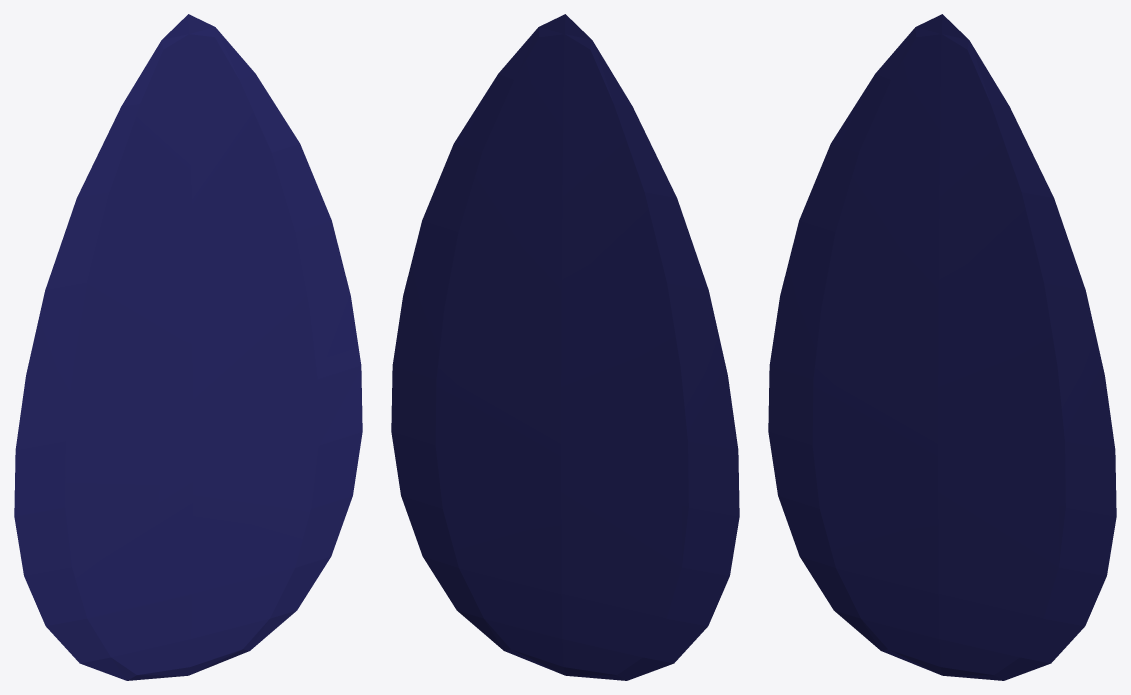
Rendered from Drip.obj.
The picture shows the model from 3 angles, left to right: view 1: azimuth 30°, elevation 25°; view 2: azimuth 150°, elevation 25°; view 3: azimuth 330°, elevation 25°; orthographic projection.
Parts seen in each view (by area): view 1: yodare; view 2: yodare; view 3: yodare.
Boxes of the visible parts, bbox=[...] form: yodare: bbox=[14, 14, 362, 680]; yodare: bbox=[391, 14, 739, 680]; yodare: bbox=[768, 14, 1116, 680].
Bounding box in the file's own units: 0.8678 × 1.58 × 0.0389.
Materials: 1 (1 with a texture image).
